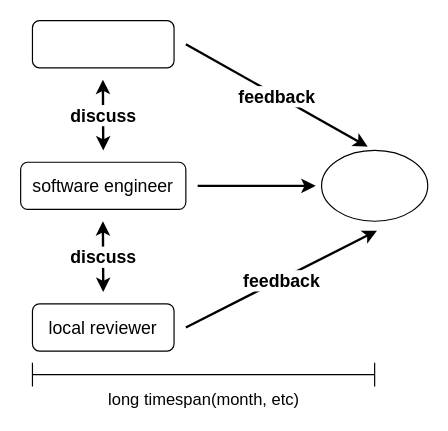
This 448x431 diagram has some shape labels left out. The shapes that lost their labels are listed below. From the top down, each one's box as (x1, y1, x2, y2) in pixels, then its label:
(31, 19, 174, 68): remote reviewer
(320, 149, 428, 221): gerrit
